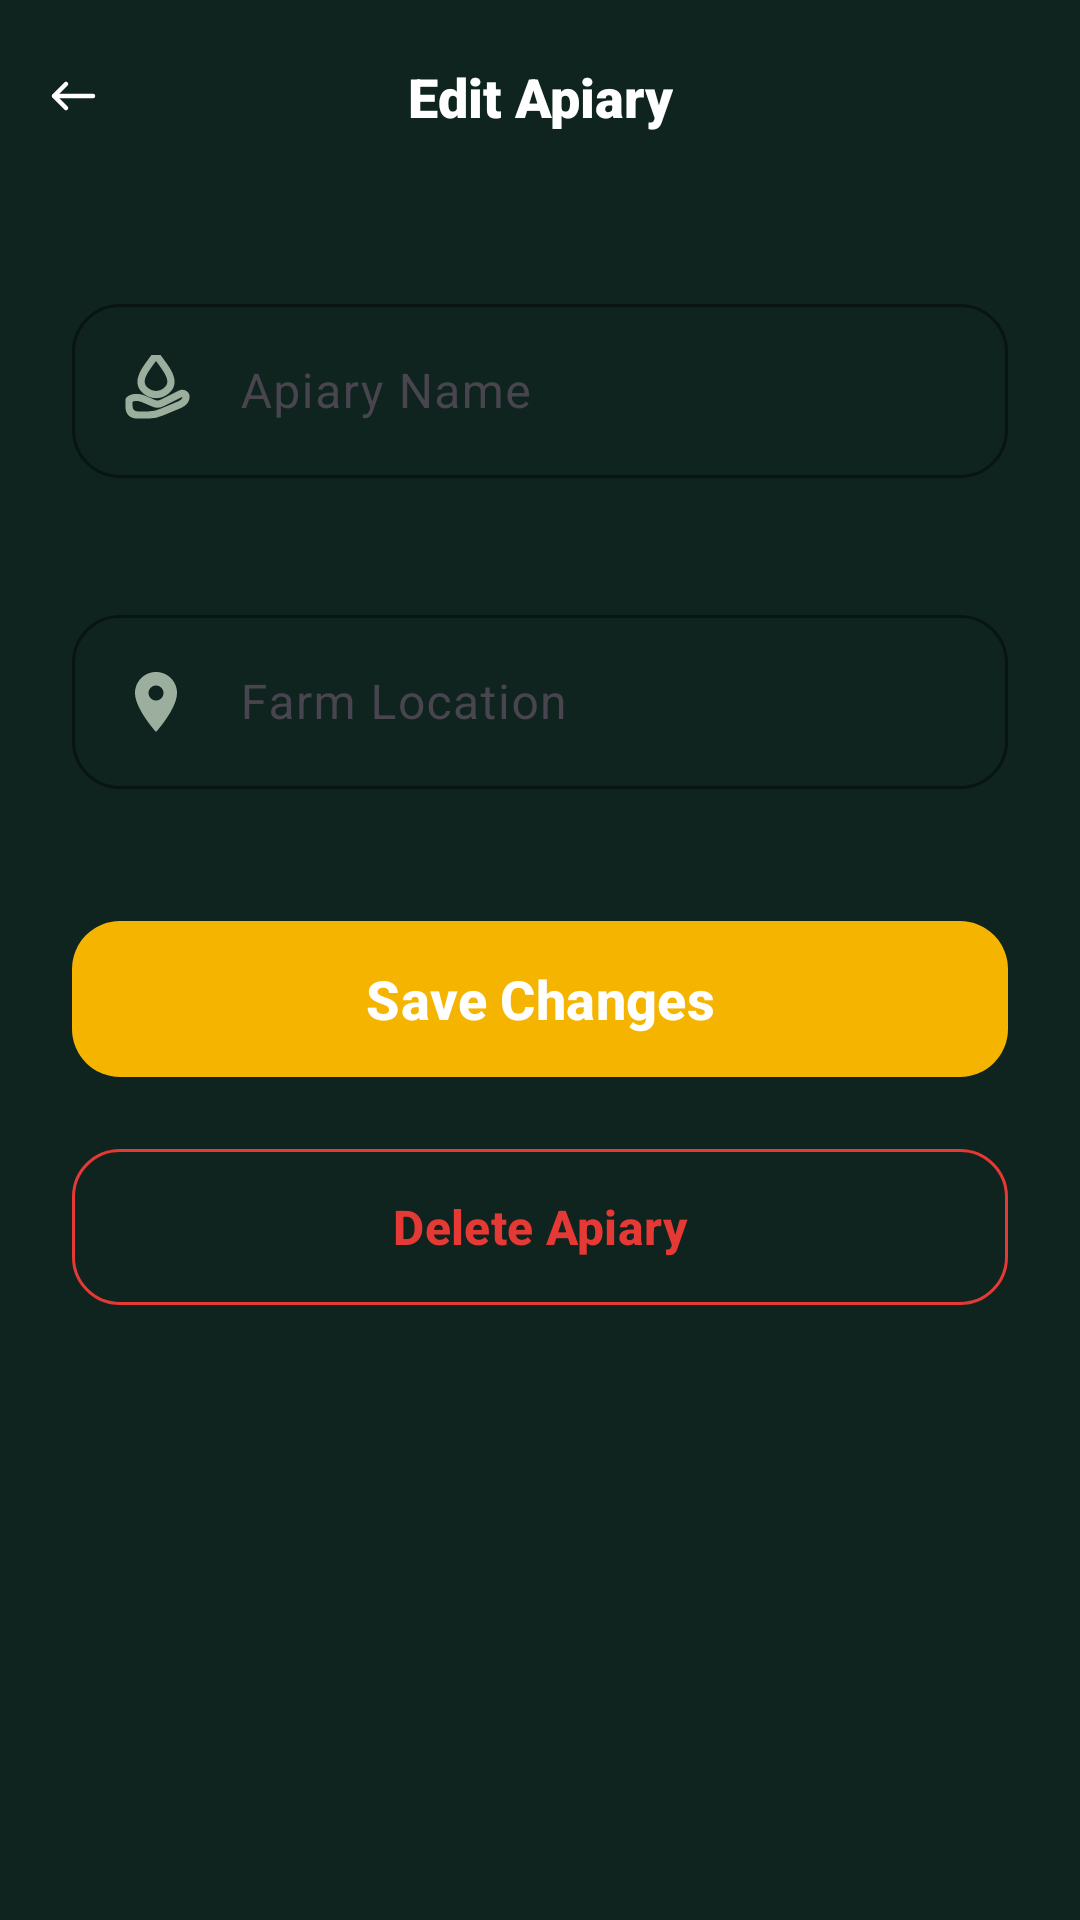

Screen size 1080px×1920px. Icon name, then its center in pixels as (x=x, y=y):
back: (x=73, y=96)
